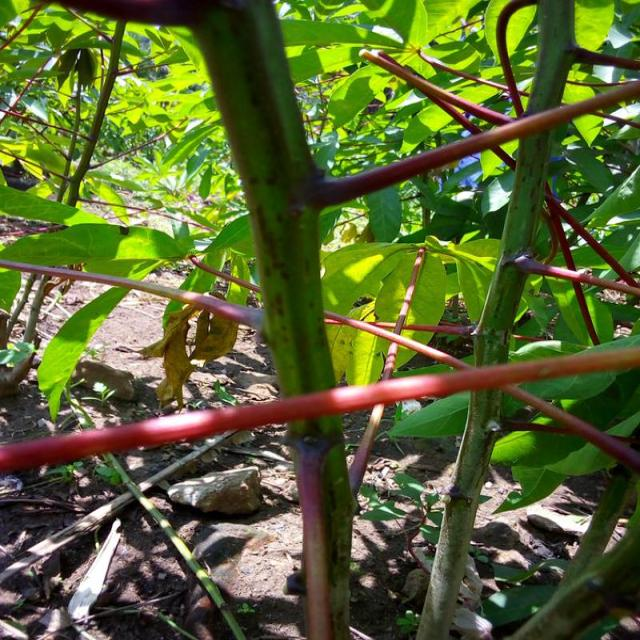cassava leaf: (319, 238, 446, 388)
